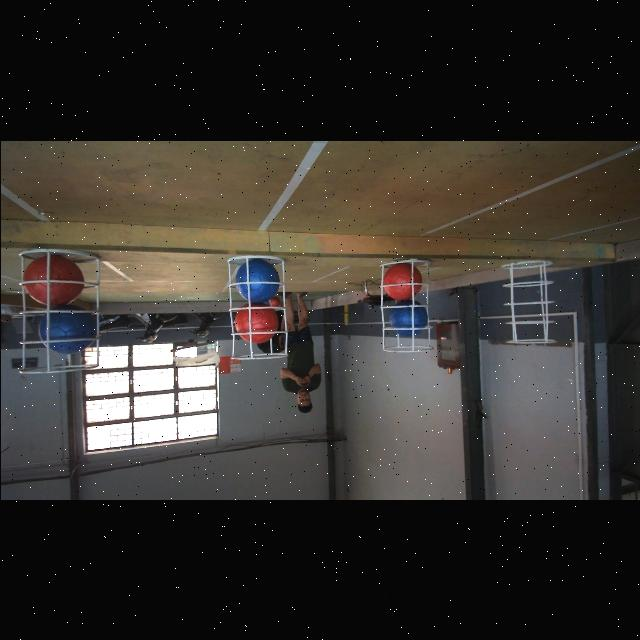B: (38, 308, 98, 352), (235, 258, 279, 302), (387, 302, 427, 338)
R: (23, 256, 86, 304), (235, 302, 279, 346), (381, 262, 421, 300)
